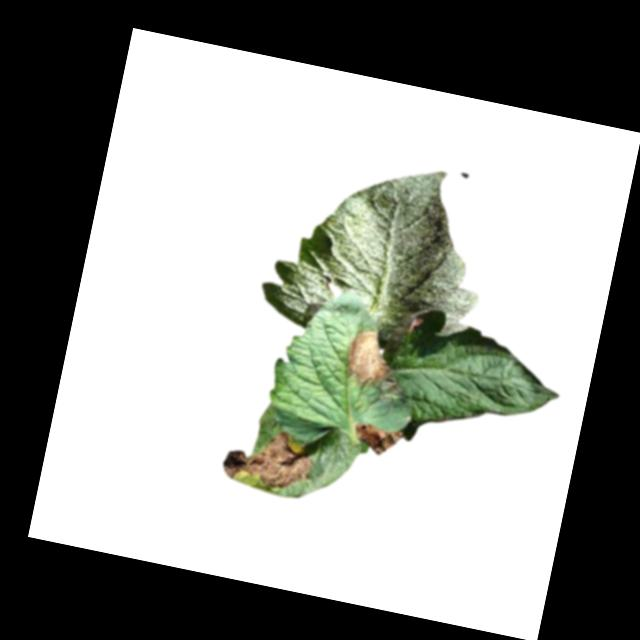Late_blight: (219, 416, 320, 503), (342, 323, 408, 391), (351, 419, 407, 459)
healthy: (255, 136, 505, 361)
